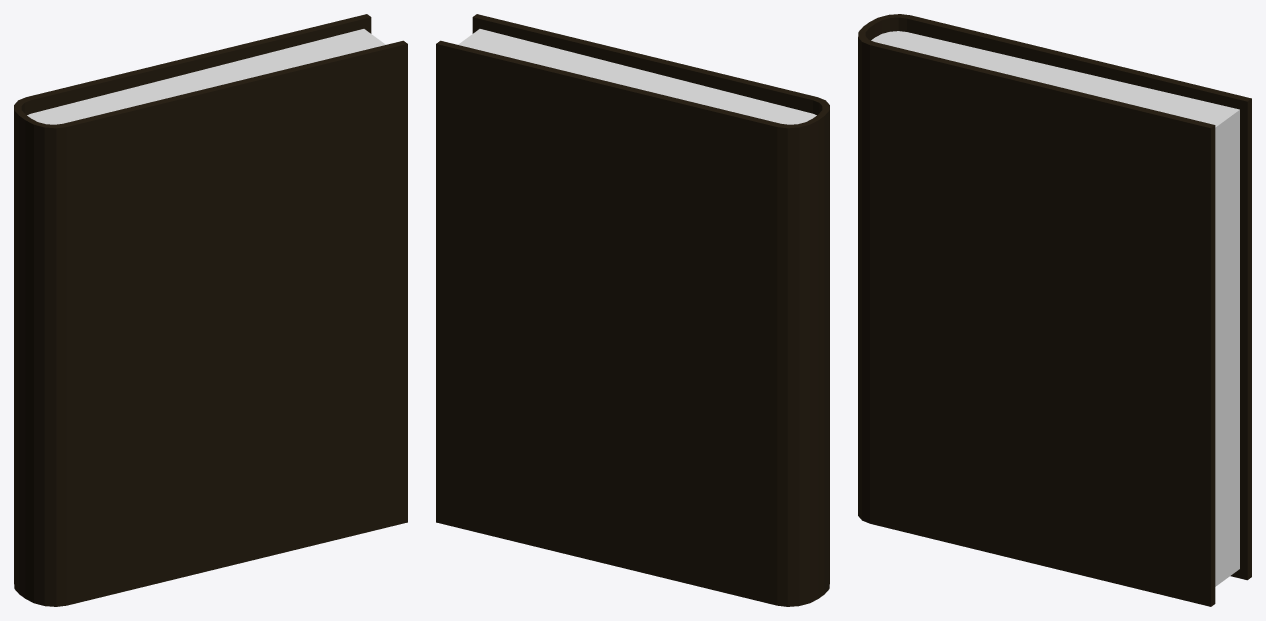
Rendered from book_2.fbx.
3 views of the same model, side by side, from view 1: azimuth 30°, elevation 25°; view 2: azimuth 150°, elevation 25°; view 3: azimuth 330°, elevation 25° (orthographic).
Parts seen in each view (by area): view 1: book_2_export; view 2: book_2_export; view 3: book_2_export.
Part boxes in pixels (x1=…): book_2_export: x1=14, y1=14, x2=407, y2=606; book_2_export: x1=436, y1=14, x2=829, y2=606; book_2_export: x1=858, y1=14, x2=1251, y2=606.
Bounding box in the file's own units: 45.3 × 56.75 × 8.77.
